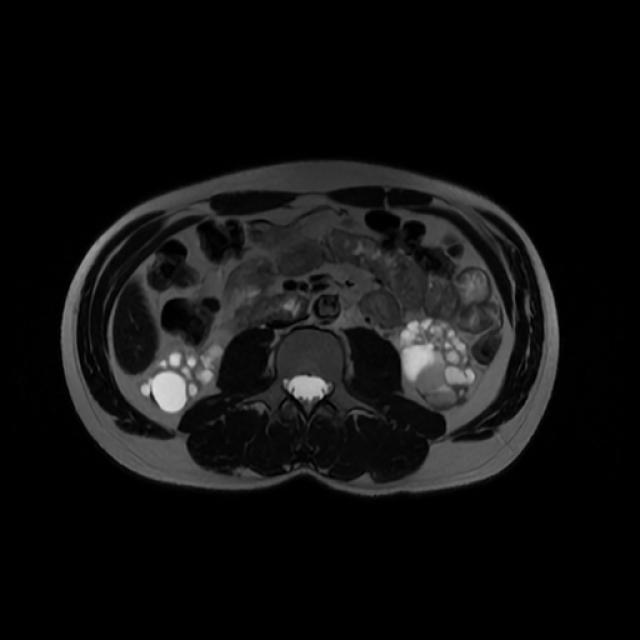sag: (144, 344, 226, 410)
sol: (399, 318, 474, 413)
